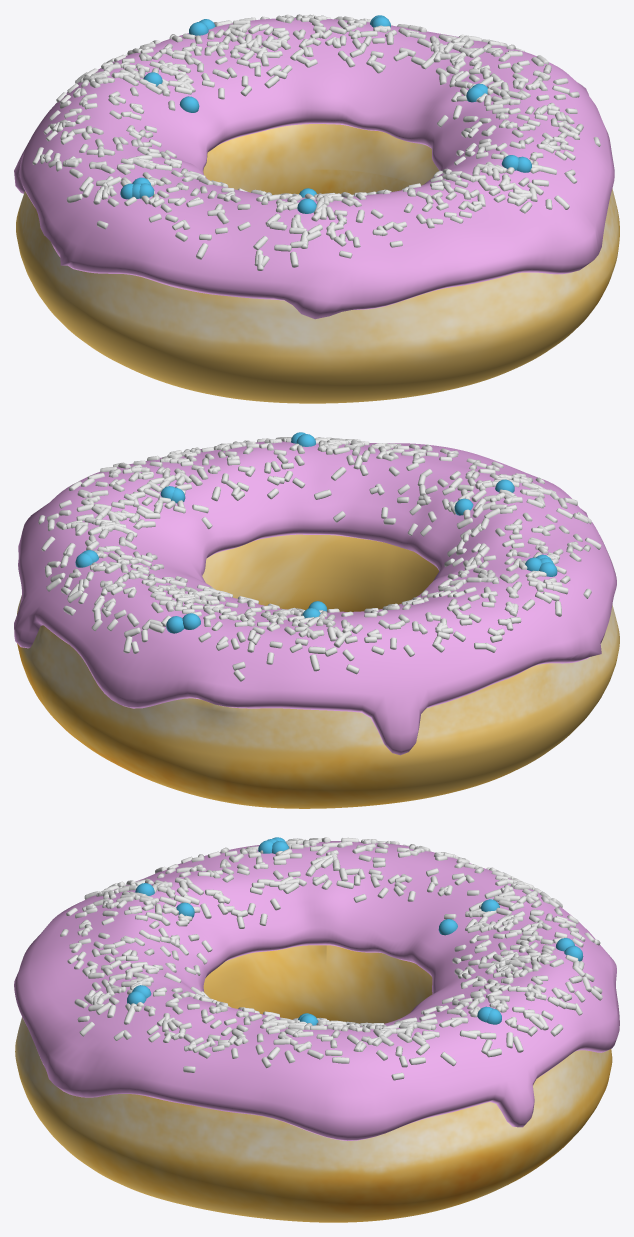
File: advanced_donut1.fbx
3 views of the same model, one above another, from view 1: azimuth 30°, elevation 25°; view 2: azimuth 150°, elevation 25°; view 3: azimuth 270°, elevation 25° (orthographic).
Parts seen in each view (by area): view 1: Icing, Donut; view 2: Icing, Donut; view 3: Icing, Donut.
Part boxes in pixels (x1,y1,x2,y2): Icing: [14, 18, 614, 319]; Donut: [16, 124, 619, 403]; Icing: [14, 441, 616, 755]; Donut: [17, 534, 619, 808]; Icing: [14, 841, 619, 1140]; Donut: [15, 945, 612, 1222].
Bounding box in the file's own units: 256 × 87.48 × 247.
4 materials, 1 textured.
